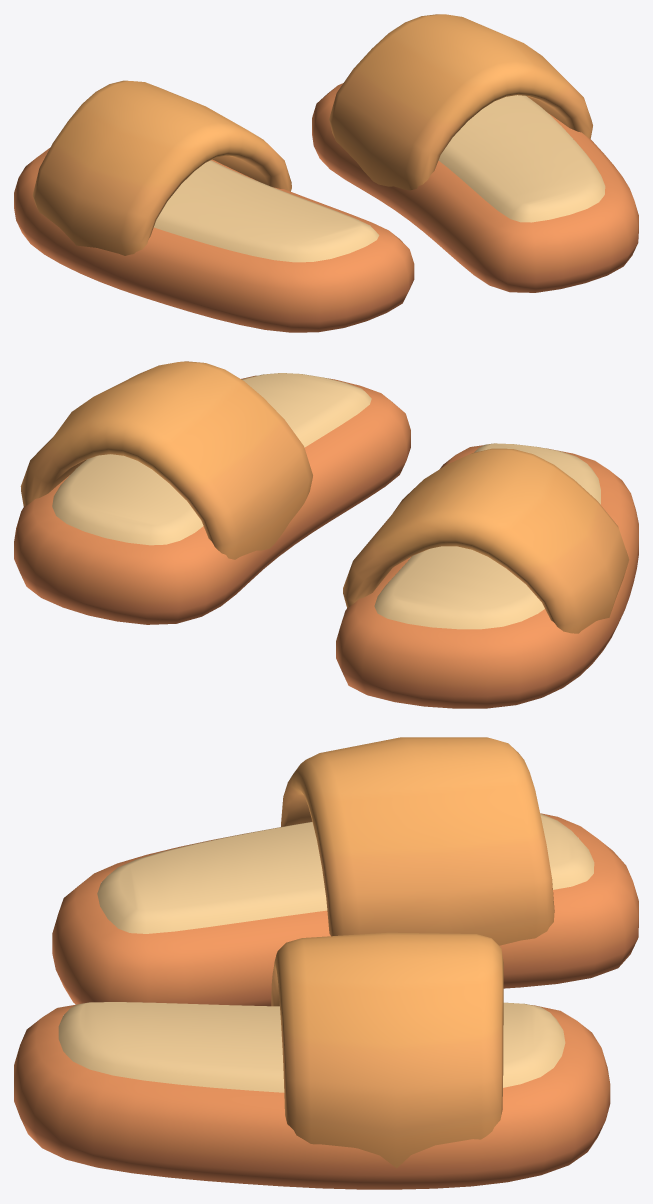
Rendered from Slippers_01.glb.
3 renders of one model, top to bottom at view 1: azimuth 30°, elevation 25°; view 2: azimuth 150°, elevation 25°; view 3: azimuth 270°, elevation 25°, orthographic. The views are drawn at different scales.
Visible parts, largest first — view 1: Slippers_01; view 2: Slippers_01; view 3: Slippers_01.
Part boxes in pixels (x1,y1,x2,y2): Slippers_01: (14,14,638,332); Slippers_01: (14,361,638,708); Slippers_01: (14,737,638,1189).
Size of the model in its own units: 0.3511 by 0.0979 by 0.2843.
Materials: 1 (1 with a texture image).
